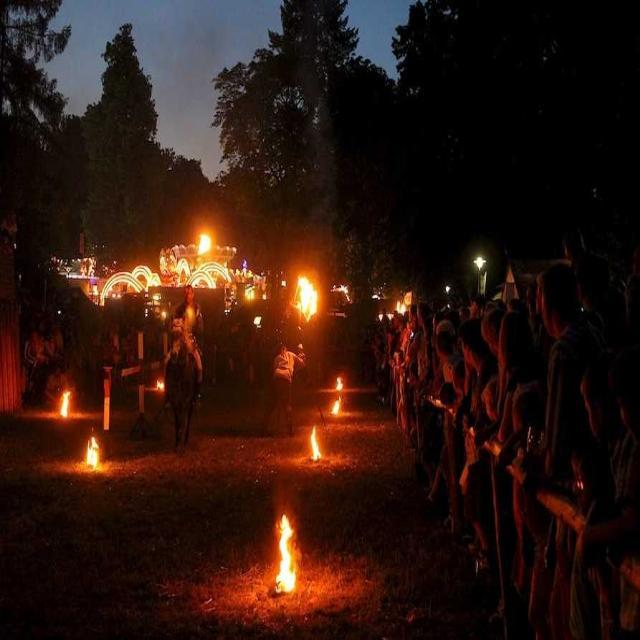Fire: (279, 520, 292, 596), (296, 278, 318, 311), (200, 229, 213, 263), (84, 446, 98, 468)
